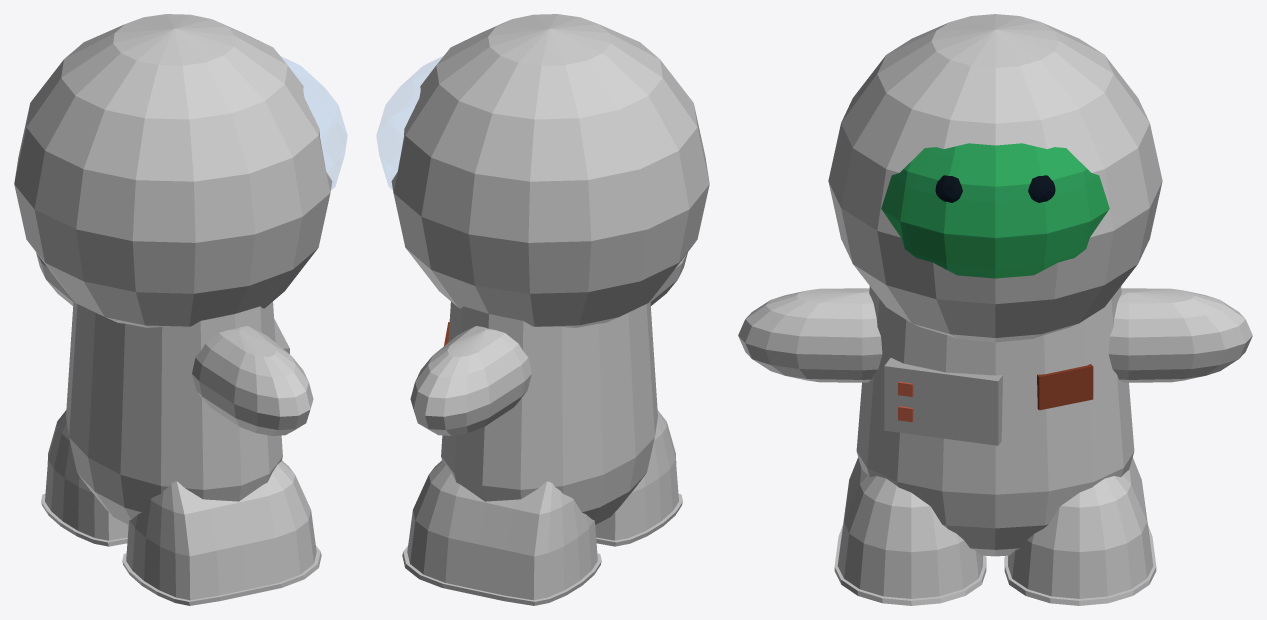
The model's file is mrastro3d-test05.fbx.
The picture shows the model from 3 angles, left to right: view 1: azimuth 30°, elevation 25°; view 2: azimuth 150°, elevation 25°; view 3: azimuth 270°, elevation 25°; orthographic projection. The views are drawn at different scales.
Visible parts, largest first — view 1: helmet, bottom, bottom.001, Sphere, glasshelmet; view 2: helmet, bottom, bottom.001, Sphere, glasshelmet; view 3: helmet, bottom, bottom.001, head, Sphere, Cube.001, Cube, eye.
Boxes of the visible parts, box(x1,y1,x2,y2) form: helmet: box(14, 14, 332, 327); bottom: box(66, 301, 282, 524); bottom.001: box(41, 410, 321, 605); Sphere: box(36, 252, 313, 435); glasshelmet: box(282, 57, 346, 189); helmet: box(391, 14, 709, 327); bottom: box(441, 301, 657, 524); bottom.001: box(402, 410, 682, 605); Sphere: box(410, 252, 687, 435); glasshelmet: box(377, 57, 441, 189); helmet: box(828, 14, 1162, 342); bottom: box(856, 286, 1134, 556); bottom.001: box(834, 457, 1156, 605); head: box(881, 143, 1109, 278); Sphere: box(738, 288, 1252, 382); Cube.001: box(884, 358, 1002, 445); Cube: box(1037, 364, 1093, 410); eye: box(935, 175, 1055, 202).
Size of the model in its own units: 256 by 419 by 371.
